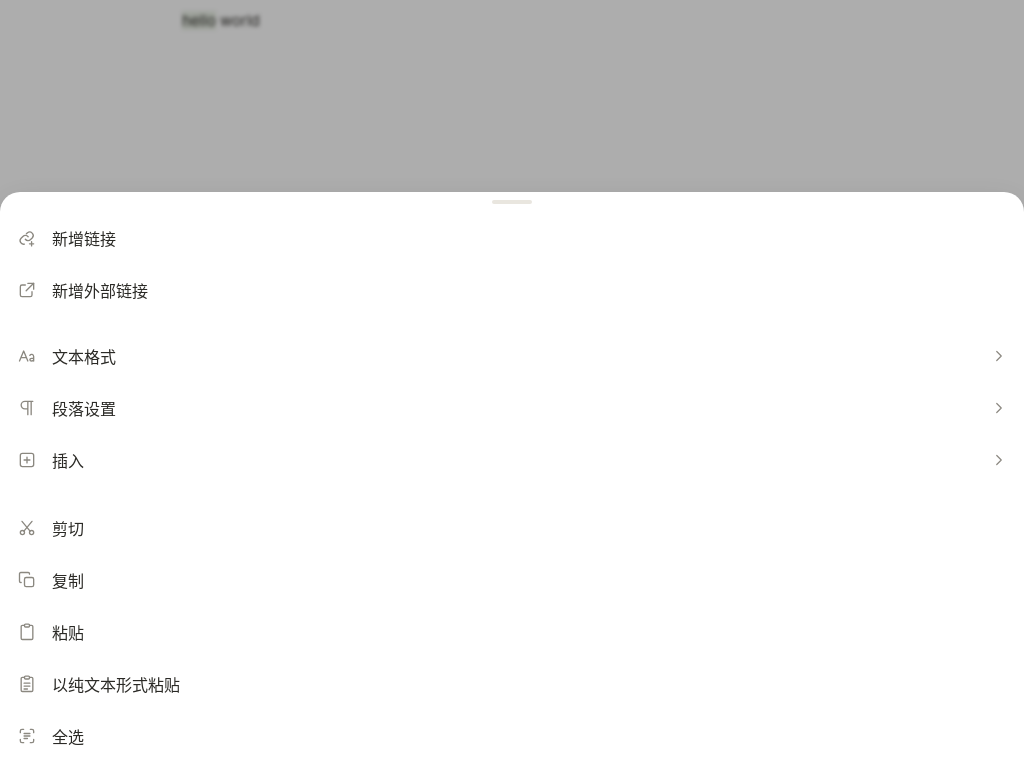
Test: MarkdownEditor 手机端选区工具桥 › more：弹底部一张纸，带二级菜单的项点下去进下一层
Expected: the field with class "cm-content" is shown, [182, 11, 260, 30]
Expected: the button "复制" is enabled, [0, 554, 1023, 606]
Click the button "文本格式": (84,357) [0, 330, 1023, 382]
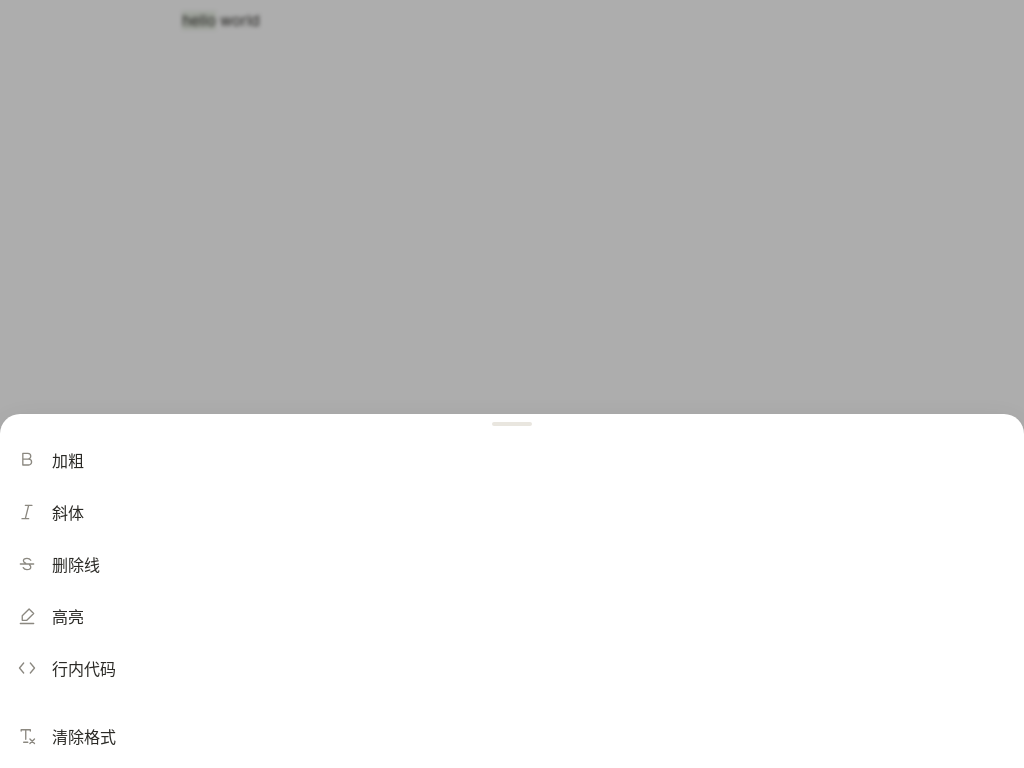
Expected: the button "加粗" is shown
Click the button "加粗": (68,461) [0, 434, 1023, 486]
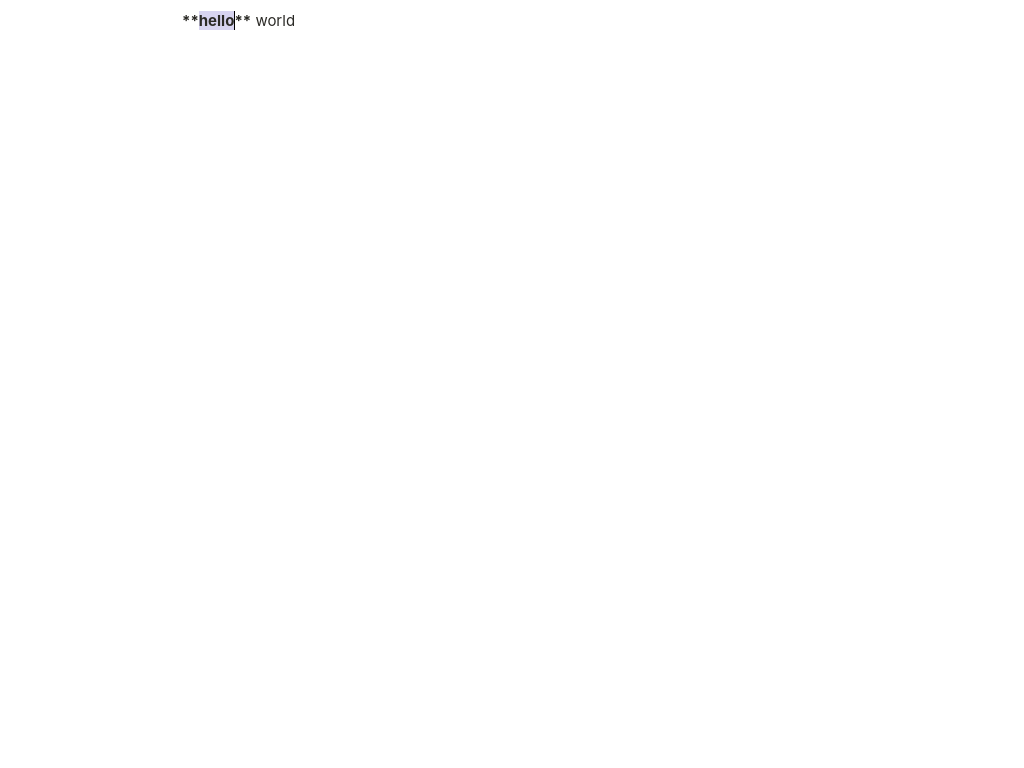
Expected: the text box labelled "**hello** world" is shown, [182, 11, 295, 30]
Expected: the dialog is gone
